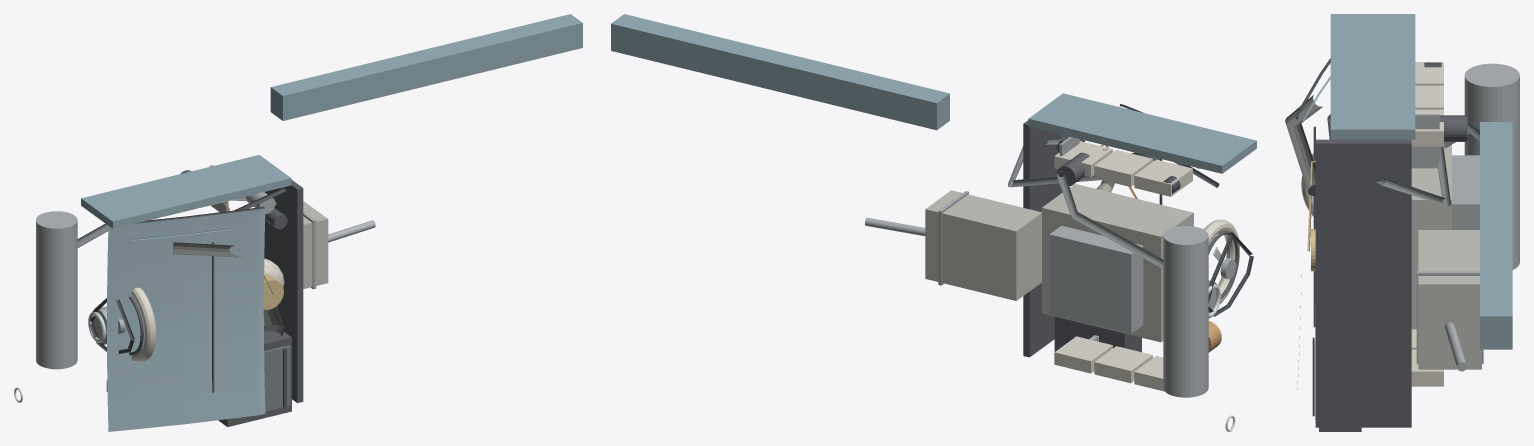
File: Borsche_911_1981_Smooth_Flat_Six_Engine.glb
The picture shows the model from 3 angles, left to right: view 1: azimuth 30°, elevation 25°; view 2: azimuth 150°, elevation 25°; view 3: azimuth 270°, elevation 25°; orthographic projection. The views are drawn at different scales.
Parts seen in each view (by area): view 1: engine_hatch_skin, rocker_undertray, engine_compartment_inner_cheeks, horizontally_mounted_exhaust_muffler, engine_bay_front_firewall, 915_transmission_case, air_filter_cover_molded_ribs, signature_911_fan_housing, KJetronic_black_air_filter_box, rubber_ventilation_hose, KJetronic_fuel_distributor; view 2: rocker_undertray, 915_transmission_case, engine_compartment_inner_cheeks, flat_six_sump_lower_case, flat_six_engine_main_crankcase, horizontally_mounted_exhaust_muffler, engine_bay_front_firewall, KJetronic_black_air_filter_box, three_cylinder_rocker_cover_1_0, three_cylinder_rocker_cover_1_1, three_cylinder_rocker_cover_-1_2, three_cylinder_rocker_cover_-1_1 (+6 smaller); view 3: engine_bay_front_firewall, engine_compartment_inner_cheeks, 915_transmission_case, rocker_undertray, horizontally_mounted_exhaust_muffler, flat_six_engine_main_crankcase, flat_six_sump_lower_case, rubber_ventilation_hose, braided_oil_pressure_line, machined_cooling_fin, three_cylinder_rocker_cover_1_2, three_cylinder_rocker_cover_1_1 (+10 smaller).
Part boxes in pixels (left/top/right/bottom): engine_hatch_skin: left=106, top=208, right=265, bottom=431; rocker_undertray: left=270, top=14, right=582, bottom=120; engine_compartment_inner_cheeks: left=81, top=155, right=291, bottom=228; horizontally_mounted_exhaust_muffler: left=36, top=211, right=77, bottom=369; engine_bay_front_firewall: left=264, top=179, right=303, bottom=402; 915_transmission_case: left=303, top=201, right=328, bottom=288; air_filter_cover_molded_ribs: left=234, top=345, right=290, bottom=418; signature_911_fan_housing: left=131, top=287, right=156, bottom=362; KJetronic_black_air_filter_box: left=218, top=331, right=291, bottom=426; rubber_ventilation_hose: left=172, top=242, right=242, bottom=257; KJetronic_fuel_distributor: left=263, top=273, right=283, bottom=309; rocker_undertray: left=611, top=14, right=949, bottom=130; 915_transmission_case: left=925, top=190, right=1041, bottom=300; engine_compartment_inner_cheeks: left=1028, top=93, right=1256, bottom=173; flat_six_sump_lower_case: left=1049, top=225, right=1143, bottom=333; flat_six_engine_main_crankcase: left=1042, top=184, right=1193, bottom=342; horizontally_mounted_exhaust_muffler: left=1163, top=226, right=1208, bottom=397; engine_bay_front_firewall: left=1023, top=120, right=1062, bottom=357; KJetronic_black_air_filter_box: left=1054, top=316, right=1141, bottom=352; three_cylinder_rocker_cover_1_0: left=1134, top=159, right=1192, bottom=196; three_cylinder_rocker_cover_1_1: left=1094, top=150, right=1152, bottom=186; three_cylinder_rocker_cover_-1_2: left=1054, top=336, right=1112, bottom=373; three_cylinder_rocker_cover_-1_1: left=1094, top=346, right=1152, bottom=383; engine_bay_front_firewall: left=1315, top=139, right=1411, bottom=427; engine_compartment_inner_cheeks: left=1330, top=14, right=1415, bottom=139; 915_transmission_case: left=1418, top=230, right=1481, bottom=369; rocker_undertray: left=1480, top=122, right=1512, bottom=349; horizontally_mounted_exhaust_muffler: left=1464, top=63, right=1519, bottom=269; flat_six_engine_main_crankcase: left=1411, top=145, right=1451, bottom=329; flat_six_sump_lower_case: left=1452, top=155, right=1479, bottom=229; rubber_ventilation_hose: left=1285, top=95, right=1322, bottom=195; braided_oil_pressure_line: left=1375, top=146, right=1450, bottom=206; machined_cooling_fin: left=1411, top=114, right=1439, bottom=168; three_cylinder_rocker_cover_1_2: left=1411, top=109, right=1443, bottom=146; three_cylinder_rocker_cover_1_1: left=1415, top=85, right=1443, bottom=109.
Size of the model in its own units: 3.06 by 1.34 by 0.832.
